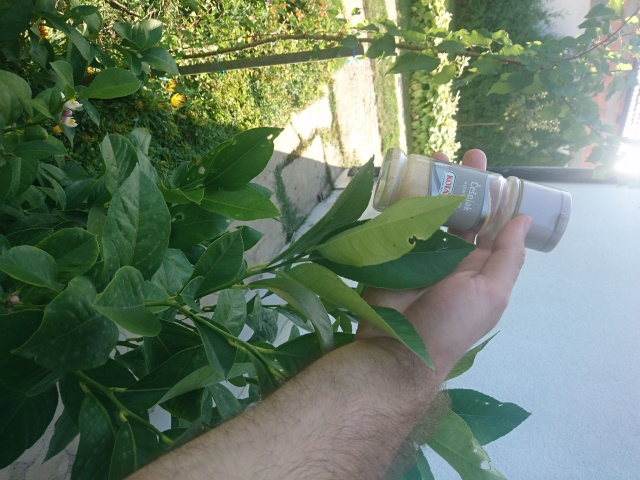Kotanyi Garlic Granules 70g: (369, 145, 574, 255)
